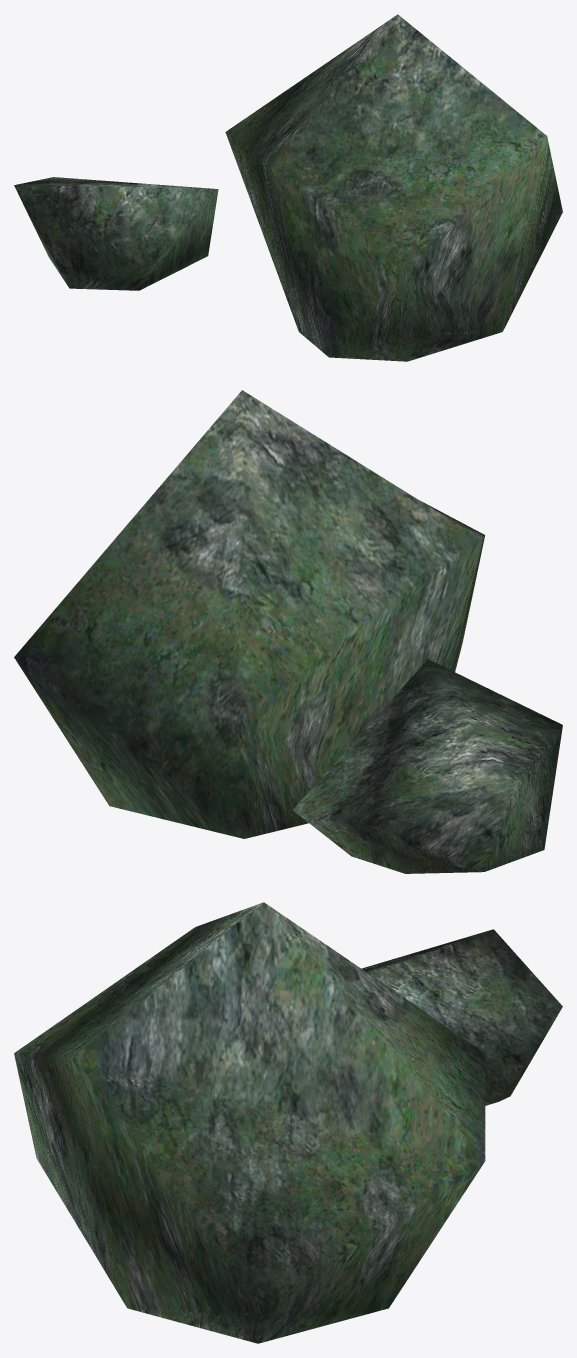
File: rock_moss_blue_l3.fbx
3 views of the same model, one above another, from view 1: azimuth 30°, elevation 25°; view 2: azimuth 150°, elevation 25°; view 3: azimuth 270°, elevation 25° (orthographic). The views are drawn at different scales.
Visible parts, largest first — view 1: mesh_node; view 2: mesh_node; view 3: mesh_node.
Part boxes in pixels (x1=…): mesh_node: x1=14, y1=14, x2=562, y2=361; mesh_node: x1=14, y1=390, x2=562, y2=873; mesh_node: x1=14, y1=902, x2=562, y2=1343.
Size of the model in its own units: 9.98 by 6.06 by 8.06.
1 material, 1 textured.
